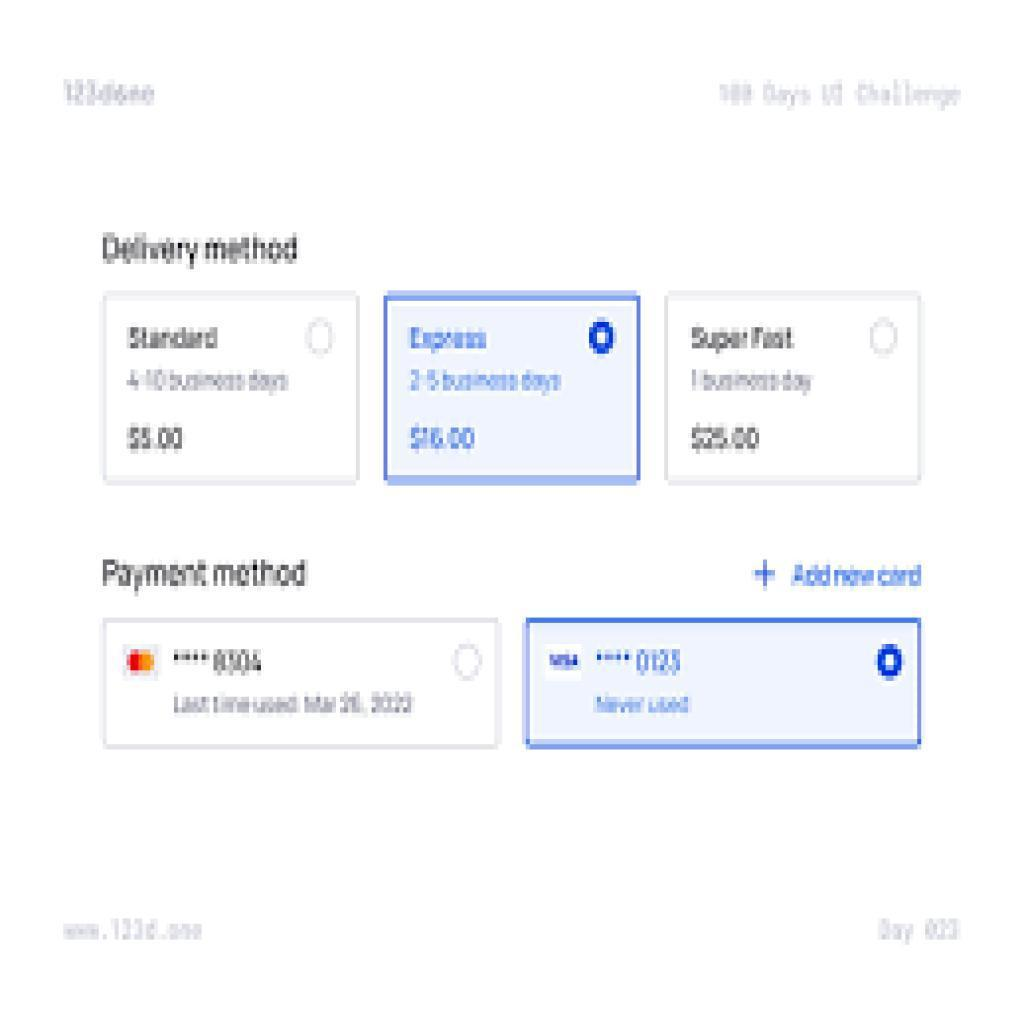icon: (755, 561, 781, 589)
label: (794, 560, 927, 594)
radio: (875, 641, 910, 686), (304, 315, 336, 356), (868, 315, 900, 355), (587, 319, 618, 360), (454, 642, 484, 684)
